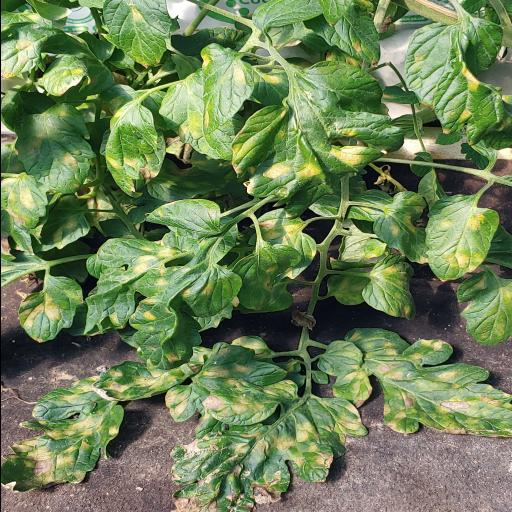Leaf Mold: (230, 61, 404, 218), (168, 398, 368, 512), (83, 228, 243, 370), (340, 327, 512, 437), (0, 375, 126, 491), (403, 16, 506, 144), (98, 84, 166, 198), (13, 104, 96, 194), (424, 194, 499, 282), (16, 276, 82, 343)
